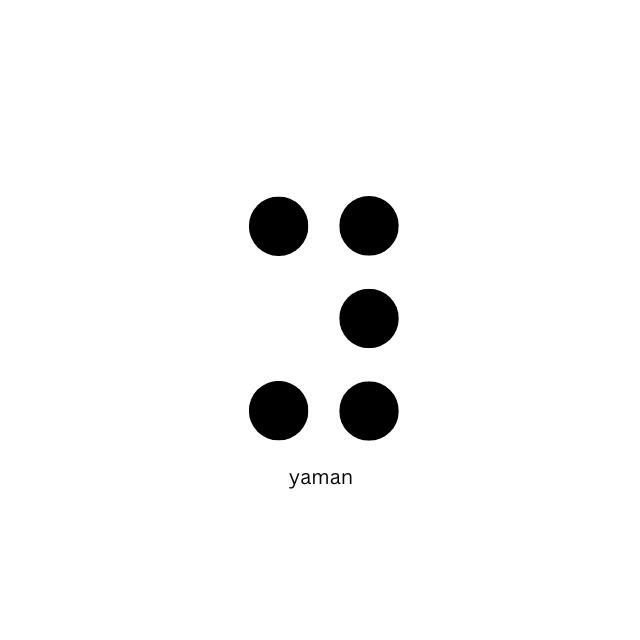one_cell_alphabet_yaman: (248, 195, 400, 444)
